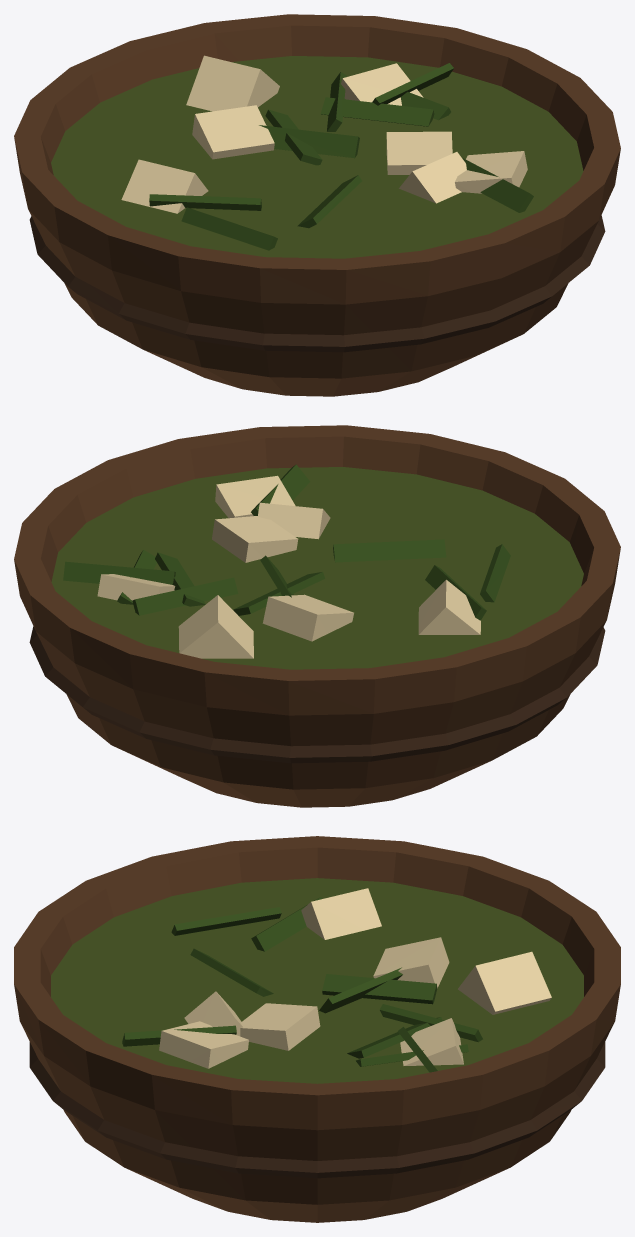
File: VFP_Food_SwampFishStew.obj
3 renders of one model, top to bottom at view 1: azimuth 30°, elevation 25°; view 2: azimuth 150°, elevation 25°; view 3: azimuth 270°, elevation 25°, orthographic.
Visible parts, largest first — view 1: Bowl, Fill, Chunks, Seaweed, Bowl_wood_dark; view 2: Bowl, Fill, Chunks, Seaweed, Bowl_wood_dark; view 3: Bowl, Fill, Chunks, Bowl_wood_dark, Seaweed.
Boxes of the visible parts, box(x1,y1,x2,y2) form: Bowl: box(14, 14, 620, 396); Fill: box(51, 56, 583, 258); Chunks: box(121, 55, 527, 213); Seaweed: box(149, 63, 533, 250); Bowl_wood_dark: box(29, 215, 605, 352); Bowl: box(14, 425, 620, 807); Fill: box(51, 467, 583, 669); Chunks: box(97, 475, 480, 658); Seaweed: box(63, 464, 510, 620); Bowl_wood_dark: box(29, 626, 605, 763); Bowl: box(14, 836, 620, 1222); Fill: box(51, 878, 583, 1083); Chunks: box(159, 888, 551, 1068); Bowl_wood_dark: box(29, 1042, 605, 1178); Seaweed: box(122, 897, 482, 1072).
Size of the model in its own units: 0.3264 by 0.1162 by 0.323.
